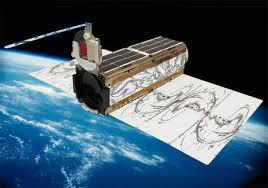antenna: (3, 22, 91, 49)
body: (78, 35, 186, 116)
solar: (108, 73, 264, 166), (28, 48, 113, 97), (96, 47, 146, 73), (130, 36, 181, 55)
